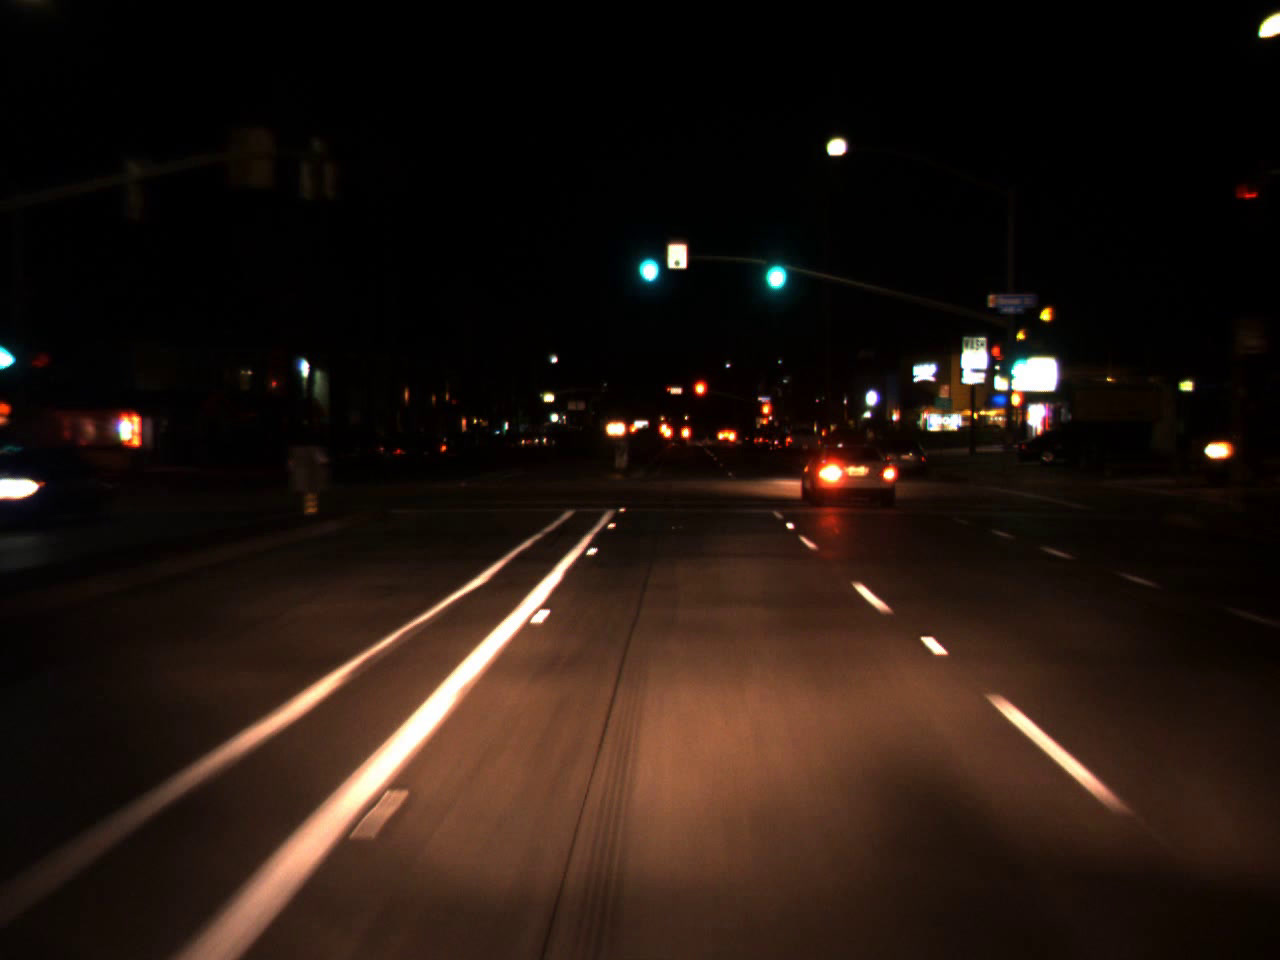go: (757, 235, 791, 298), (631, 230, 663, 290), (0, 322, 18, 373), (1008, 340, 1029, 382)
stop: (692, 379, 708, 411), (759, 401, 772, 428)
